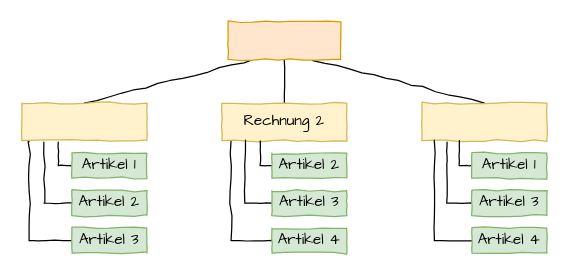
Image size: 569x275. Some labels were removed from this diagram. Here are the shapes that lost their labels. From the top down, the centre of each, then its label:
the point at 284,40: Kunde
the point at 84,121: Rechnung 1
the point at 484,121: Rechnung 3
